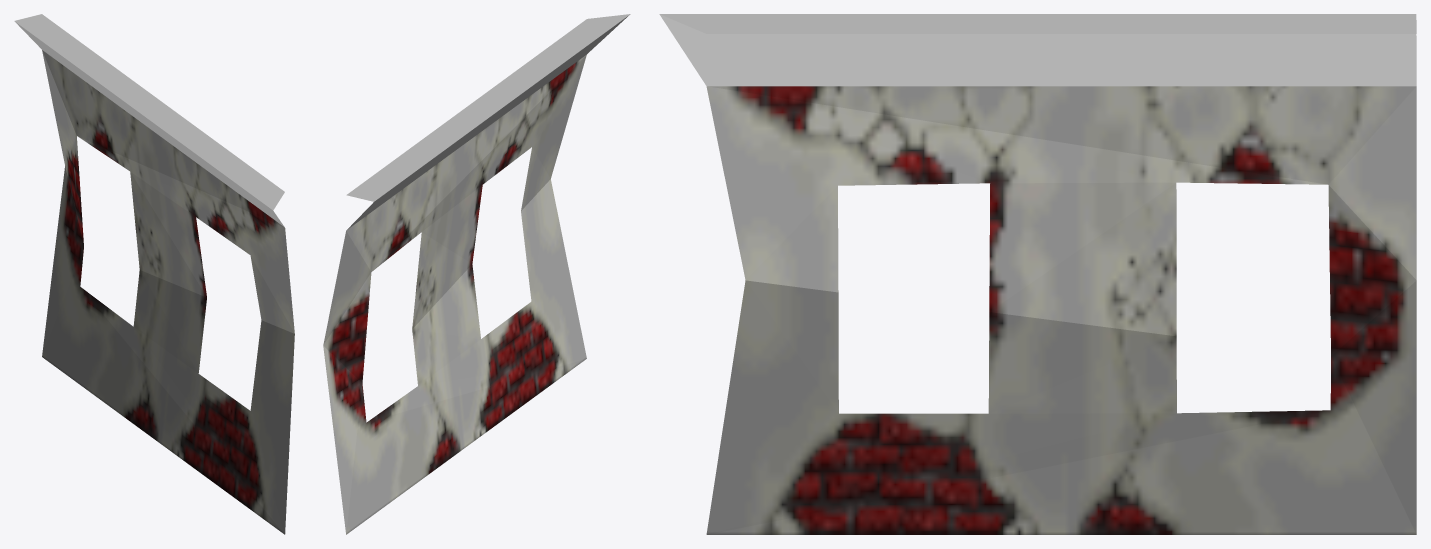
File: W_A2l_ff [Verwahrlost]_2380.glb
3 renders of one model, left to right at view 1: azimuth 30°, elevation 25°; view 2: azimuth 150°, elevation 25°; view 3: azimuth 270°, elevation 25°, orthographic. The views are drawn at different scales.
Visible parts, largest first — view 1: polySurfaceShape1183, polySurfaceShape1185; view 2: polySurfaceShape1183, polySurfaceShape1185; view 3: polySurfaceShape1183, polySurfaceShape1185.
Boxes of the visible parts, x1=… form: polySurfaceShape1183: x1=42, y1=50, x2=294, y2=534; polySurfaceShape1185: x1=14, y1=14, x2=284, y2=227; polySurfaceShape1183: x1=323, y1=54, x2=586, y2=534; polySurfaceShape1185: x1=346, y1=14, x2=630, y2=229; polySurfaceShape1183: x1=706, y1=86, x2=1416, y2=534; polySurfaceShape1185: x1=659, y1=14, x2=1416, y2=86.
Bounding box in the file's own units: 0.0607 × 0.3891 × 0.5333.
Materials: 2 (2 with a texture image).
